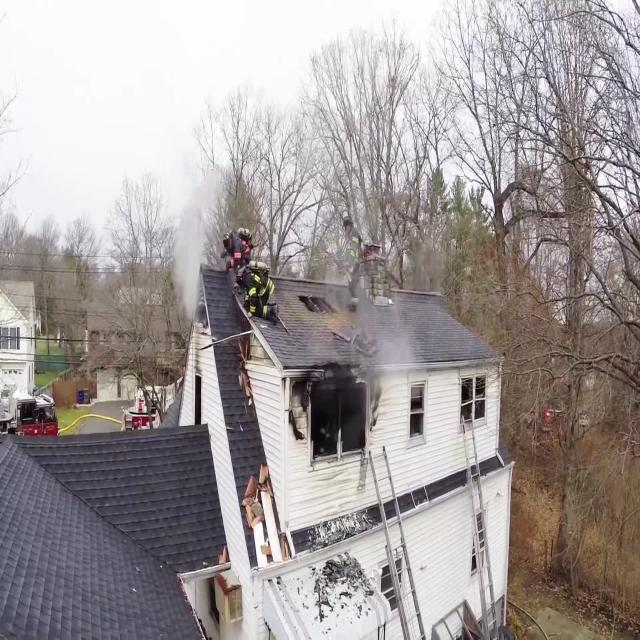Smoke: (302, 266, 426, 461)
